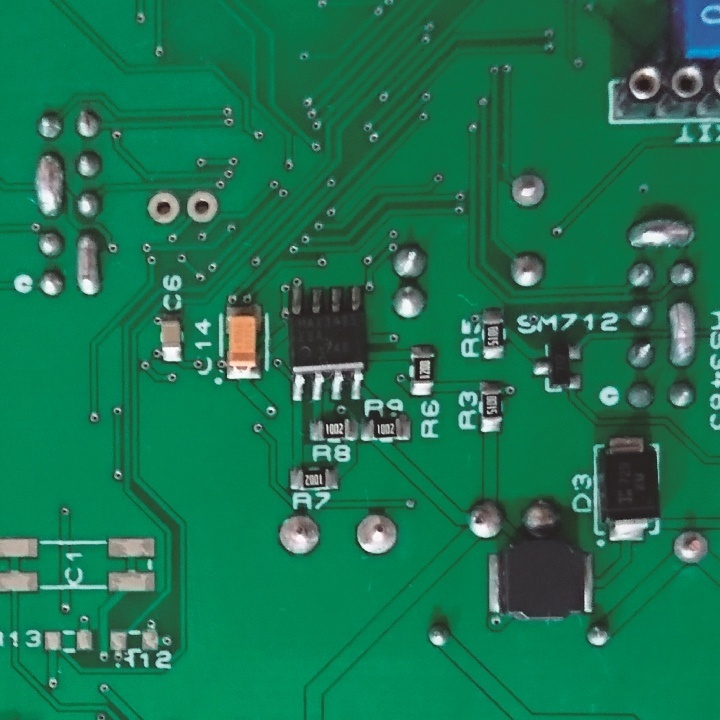F: (352, 509, 400, 554), (278, 512, 323, 558), (509, 170, 550, 214), (670, 527, 712, 567), (181, 186, 220, 223), (144, 189, 182, 225)
P: (624, 212, 699, 252), (666, 298, 699, 373), (35, 150, 67, 223), (72, 228, 104, 300)
